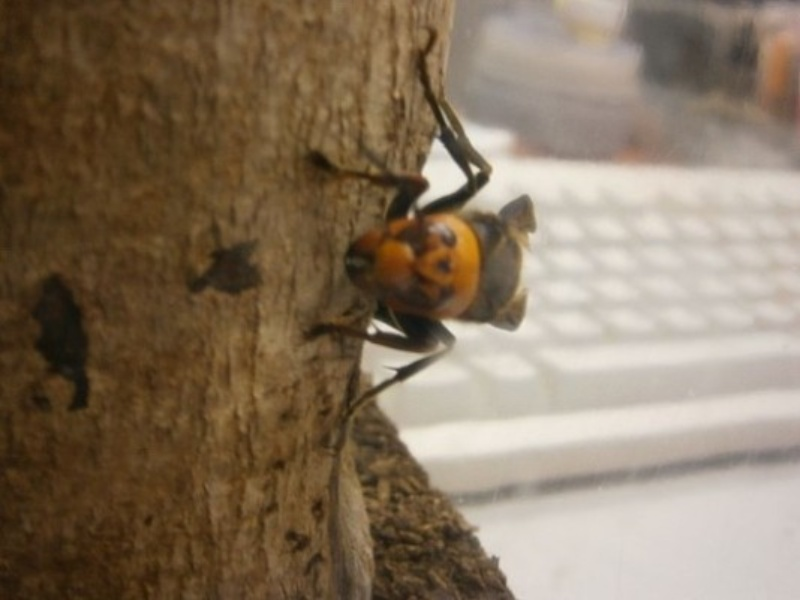asian_giant_hornet: (313, 147, 538, 360)
